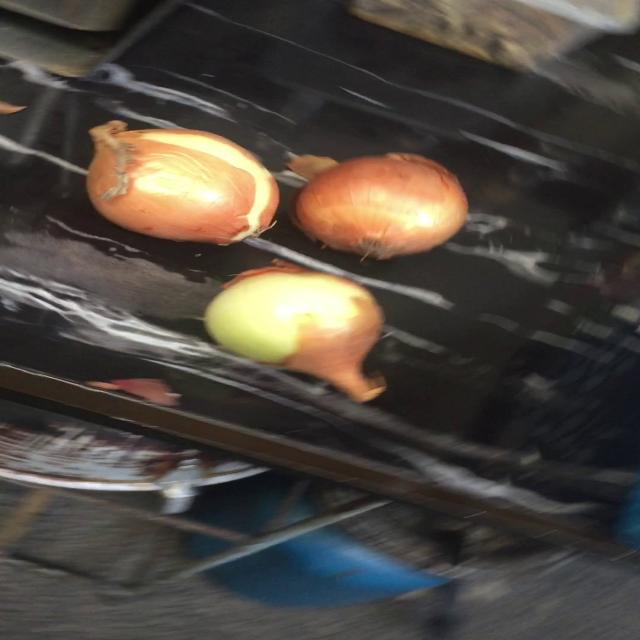Onion: (203, 261, 385, 402), (85, 120, 278, 244), (295, 153, 467, 259)
